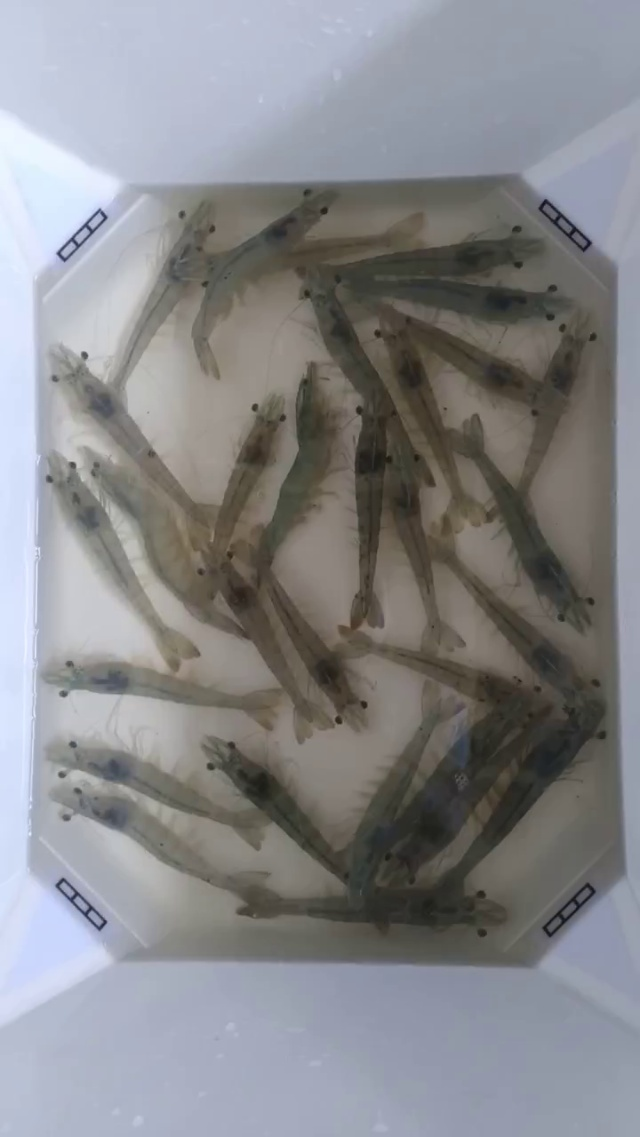shrimp: (574, 523, 639, 840), (110, 199, 218, 389), (574, 444, 639, 754), (32, 545, 139, 728), (581, 188, 639, 488), (37, 258, 139, 424), (206, 188, 336, 318), (392, 435, 487, 612), (46, 452, 149, 613), (45, 592, 197, 695), (87, 374, 195, 514), (312, 292, 393, 475), (0, 674, 66, 879), (515, 327, 588, 494), (196, 543, 282, 683), (0, 250, 46, 502), (427, 833, 508, 961), (295, 628, 380, 741), (513, 198, 611, 291), (226, 688, 327, 762), (223, 392, 285, 504)
